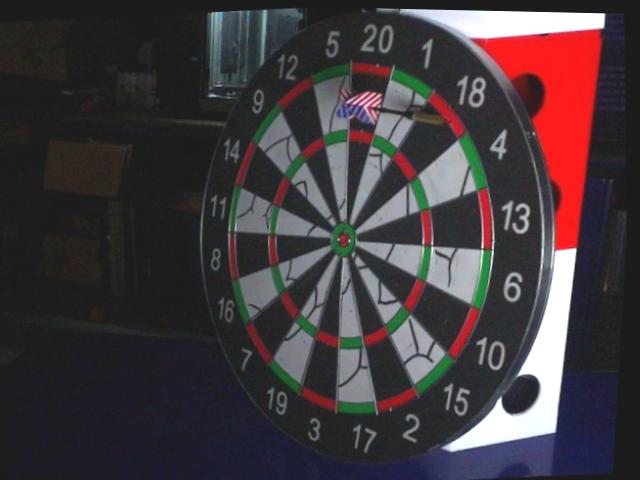double_18: (424, 92, 468, 140)
